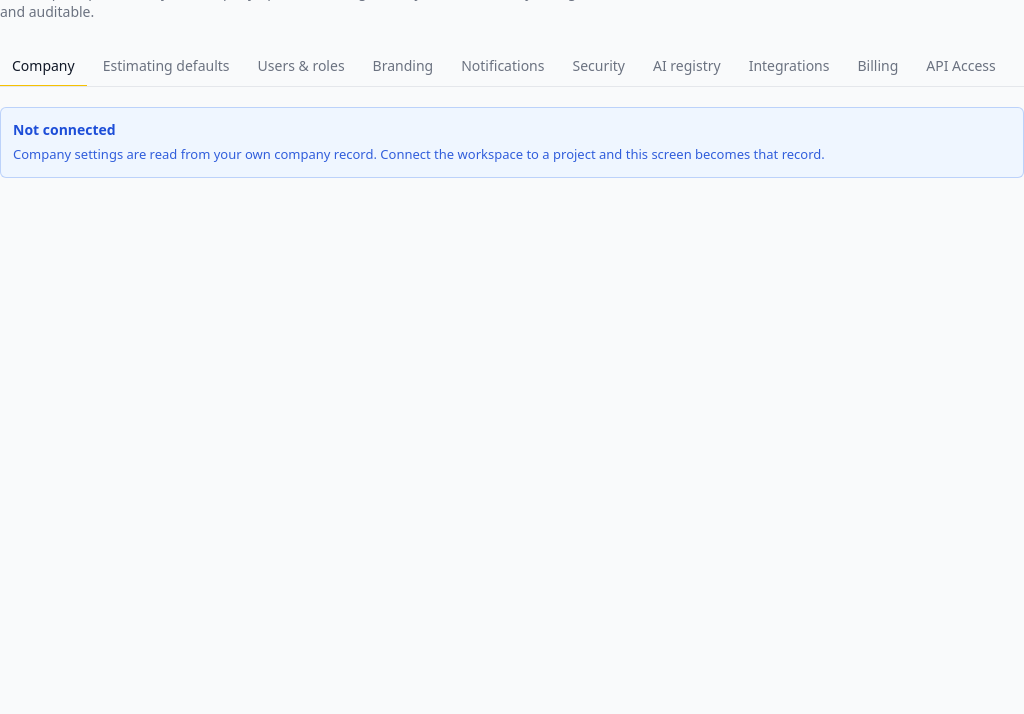
Test: the security panel claims nothing the platform does not do › names multi-factor authentication as unavailable rather than as a setting
Click the tab "Security" at (599, 66), box [560,46,637,86]
(page scrolled)
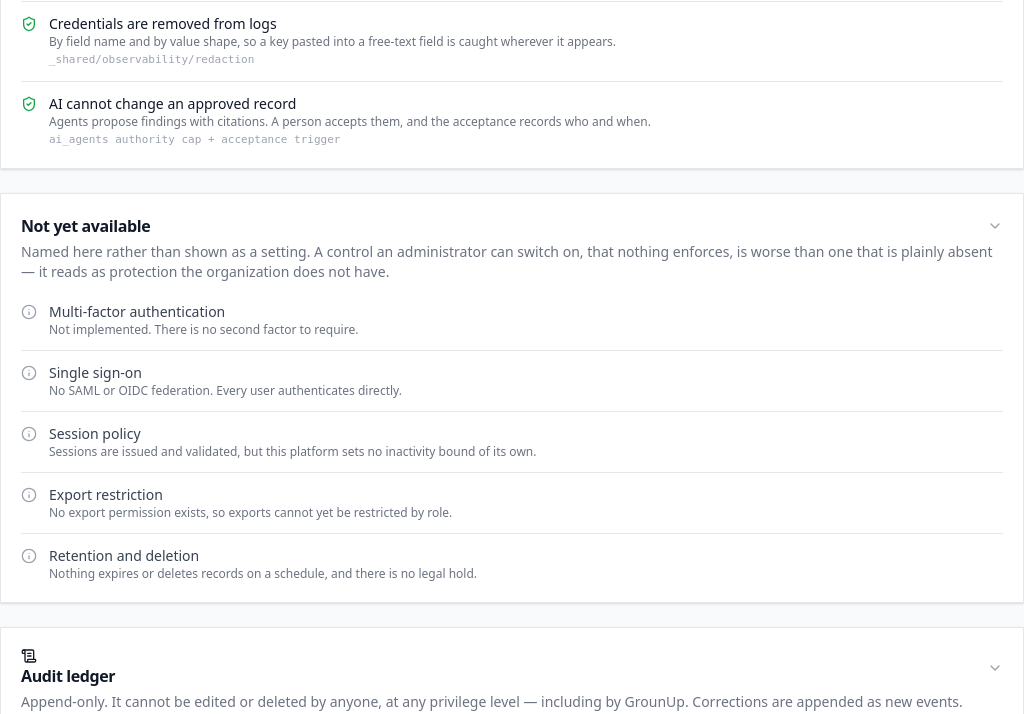
Now the text "Not yet available" is shown, box [21,215,150,237]
Now the text "Multi-factor authentication" is shown, box [49,302,225,321]
Now the text "Not implemented. There is no second factor to require." is shown, box [49,322,358,338]
